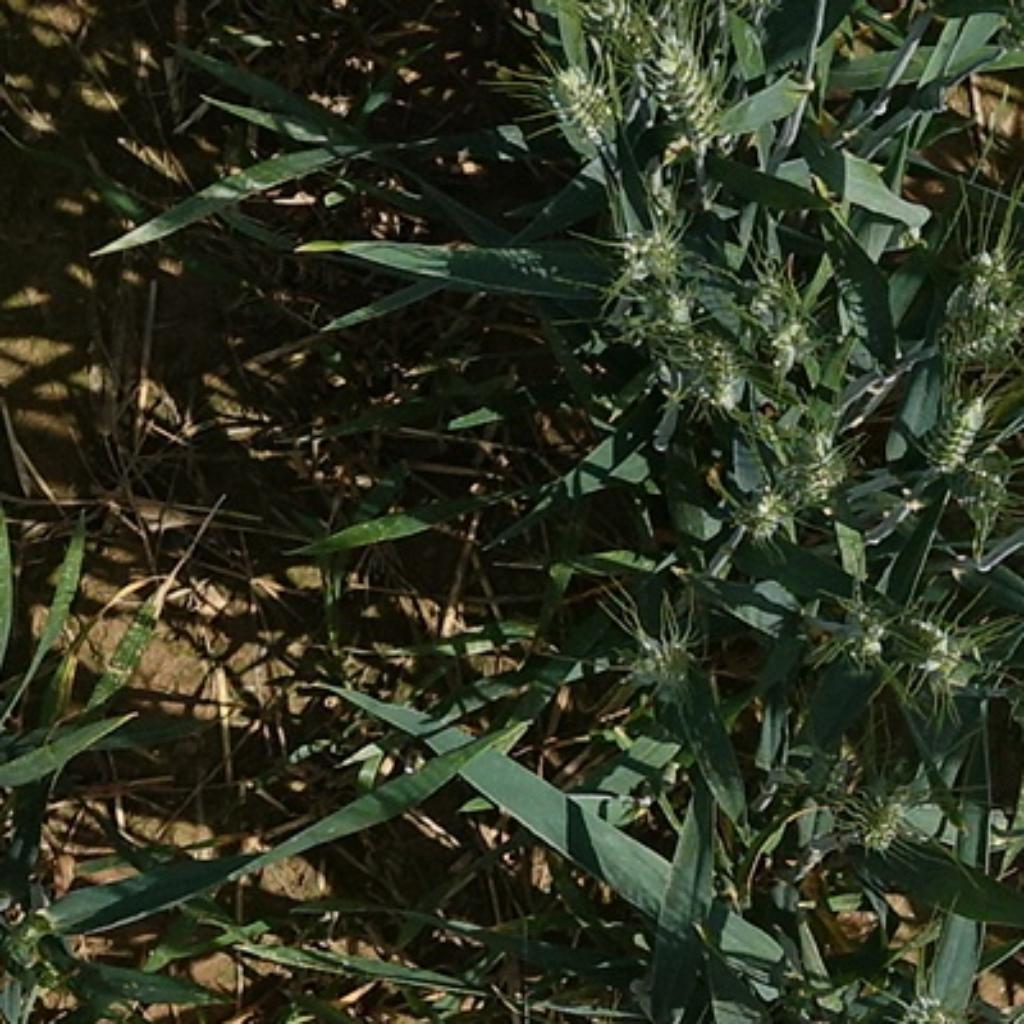0-0: (926, 253, 1024, 371), (632, 20, 724, 135), (532, 53, 619, 153), (601, 215, 691, 299), (915, 381, 989, 471), (886, 608, 974, 681), (844, 780, 929, 855), (820, 598, 888, 675), (624, 623, 699, 691), (777, 448, 849, 518), (957, 460, 1019, 529), (761, 320, 813, 390), (696, 334, 742, 409), (728, 486, 792, 539), (733, 267, 794, 322)
